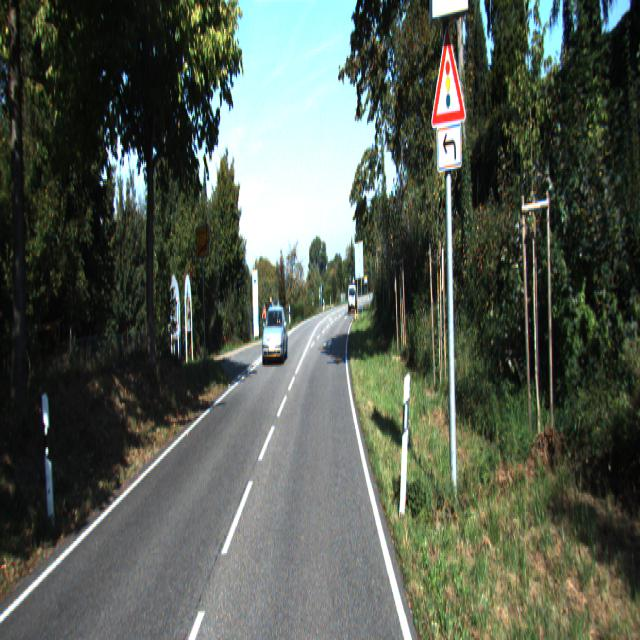Car: (261, 305, 288, 367)
